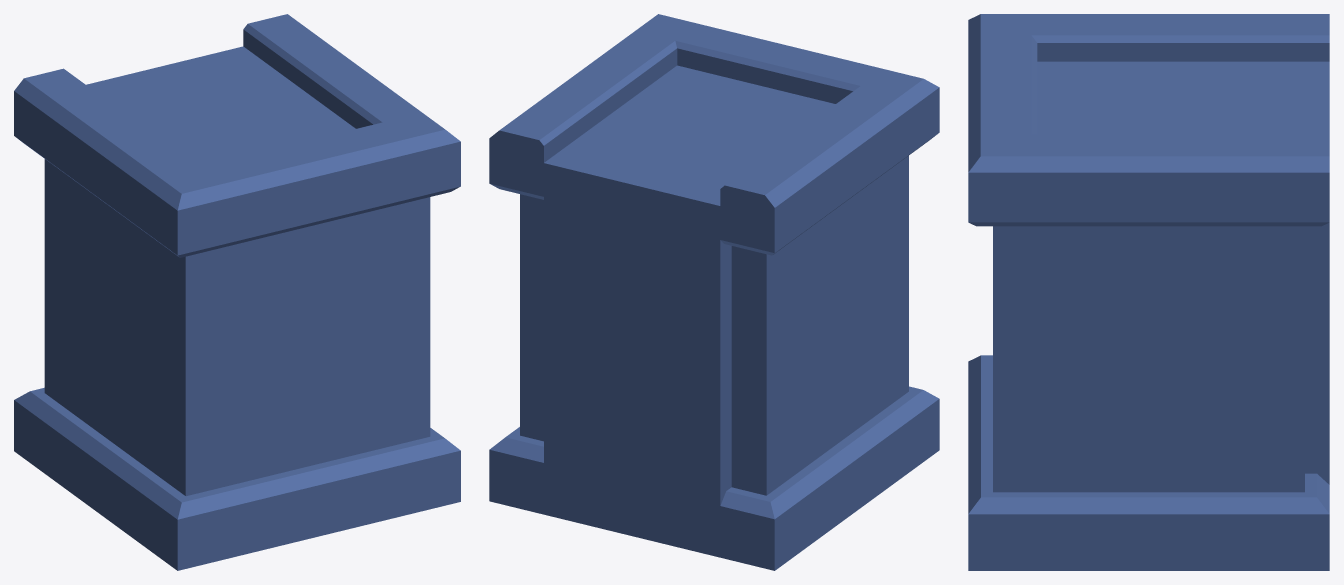
Rendered from Wall_End_01.fbx.
3 renders of one model, left to right at view 1: azimuth 30°, elevation 25°; view 2: azimuth 150°, elevation 25°; view 3: azimuth 270°, elevation 25°, orthographic. The views are drawn at different scales.
Visible parts, largest first — view 1: Wall_End_01; view 2: Wall_End_01; view 3: Wall_End_01.
Part boxes in pixels (bbox=[...]): Wall_End_01: bbox=[14, 14, 460, 570]; Wall_End_01: bbox=[489, 14, 939, 570]; Wall_End_01: bbox=[968, 14, 1329, 570].
Bounding box in the file's own units: 160 × 200 × 160.
